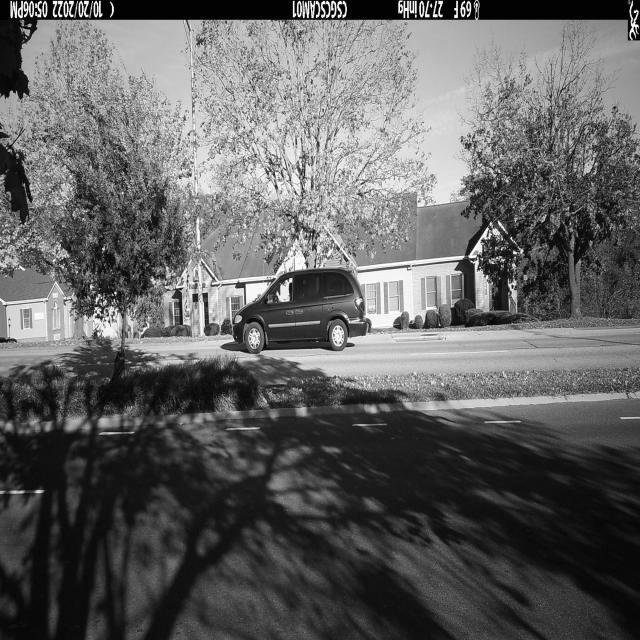Van: (233, 268, 369, 354)
